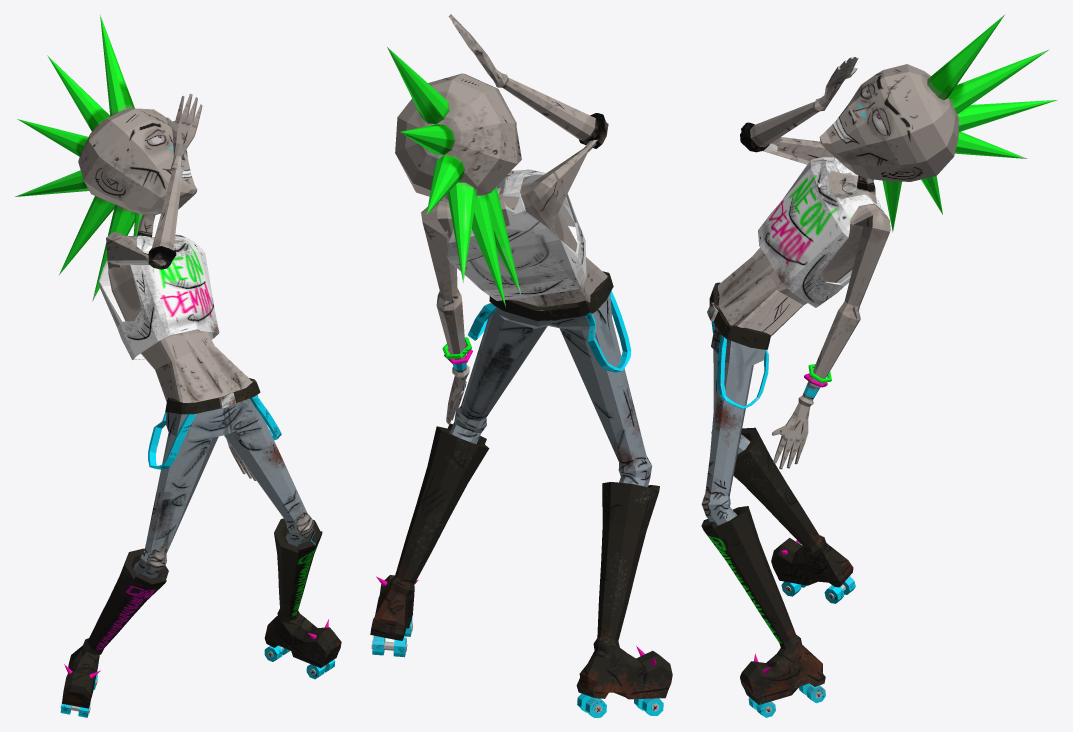
Rendered from punkAnimation_000078.obj.
3 views of the same model, side by side, from view 1: azimuth 30°, elevation 25°; view 2: azimuth 150°, elevation 25°; view 3: azimuth 270°, elevation 25° (orthographic). The views are drawn at different scales.
Visible parts, largest first — view 1: Cube.004_Cube.003; view 2: Cube.004_Cube.003; view 3: Cube.004_Cube.003.
Part boxes in pixels (x1=…): Cube.004_Cube.003: x1=15, y1=14, x2=341, y2=717; Cube.004_Cube.003: x1=370, y1=14, x2=672, y2=717; Cube.004_Cube.003: x1=701, y1=15, x2=1057, y2=717.
Bounding box in the file's own units: 2.92 × 6.45 × 3.25.
